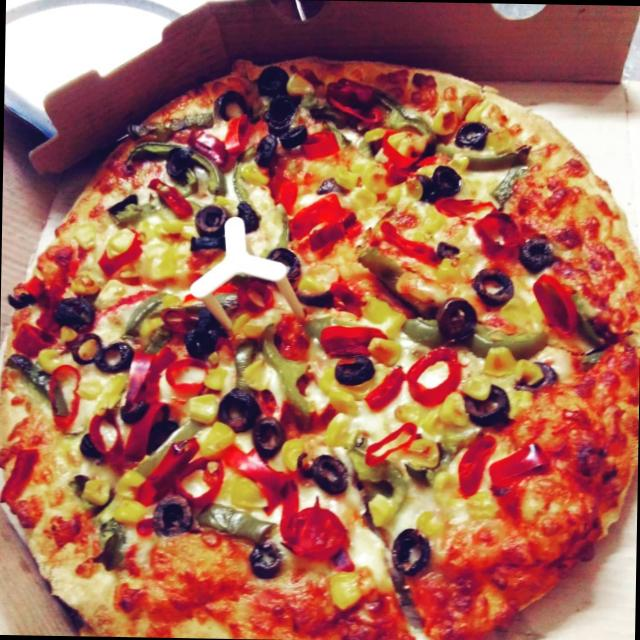black_olives: (255, 66, 298, 122), (462, 380, 510, 430), (393, 522, 435, 574), (186, 204, 227, 256), (432, 296, 476, 340), (217, 384, 261, 426), (414, 162, 461, 200), (148, 492, 192, 532), (92, 336, 136, 371), (329, 350, 375, 383), (208, 91, 250, 127), (316, 450, 352, 490), (257, 410, 289, 454), (184, 312, 218, 353), (478, 264, 514, 302), (268, 244, 303, 280), (453, 119, 488, 151), (274, 121, 310, 150), (63, 296, 93, 328), (68, 331, 100, 360), (252, 539, 280, 572), (523, 236, 550, 268), (256, 134, 280, 166), (240, 201, 259, 230)
peppers: (346, 419, 421, 518), (278, 146, 387, 210), (405, 344, 466, 406), (13, 349, 64, 416), (142, 434, 200, 491), (469, 322, 546, 362), (266, 330, 308, 402), (533, 271, 580, 333), (451, 140, 532, 172), (366, 248, 404, 285), (317, 362, 347, 404)
pizza: (0, 57, 640, 640)
